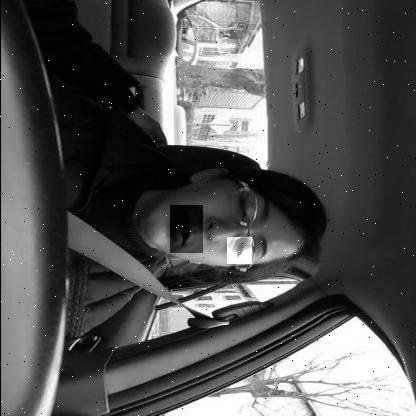seatbelt: (61, 154, 330, 300)
